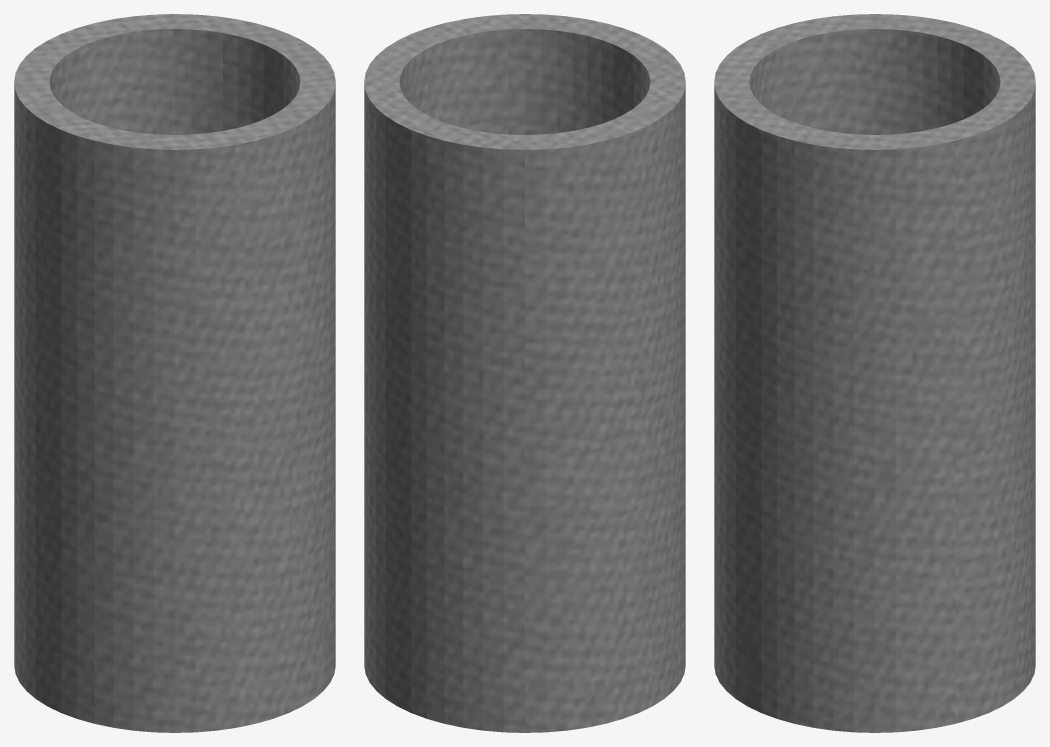
Rendered from effect-ring.glb.
3 views of the same model, side by side, from view 1: azimuth 30°, elevation 25°; view 2: azimuth 150°, elevation 25°; view 3: azimuth 270°, elevation 25° (orthographic).
Parts seen in each view (by area): view 1: hollow-impact-ring; view 2: hollow-impact-ring; view 3: hollow-impact-ring.
Part boxes in pixels (bbox=[...]): hollow-impact-ring: bbox=[14, 14, 335, 732]; hollow-impact-ring: bbox=[364, 14, 685, 732]; hollow-impact-ring: bbox=[714, 14, 1035, 732].
Bounding box in the file's own units: 1 × 2 × 1.
Materials: 1 (1 with a texture image).
